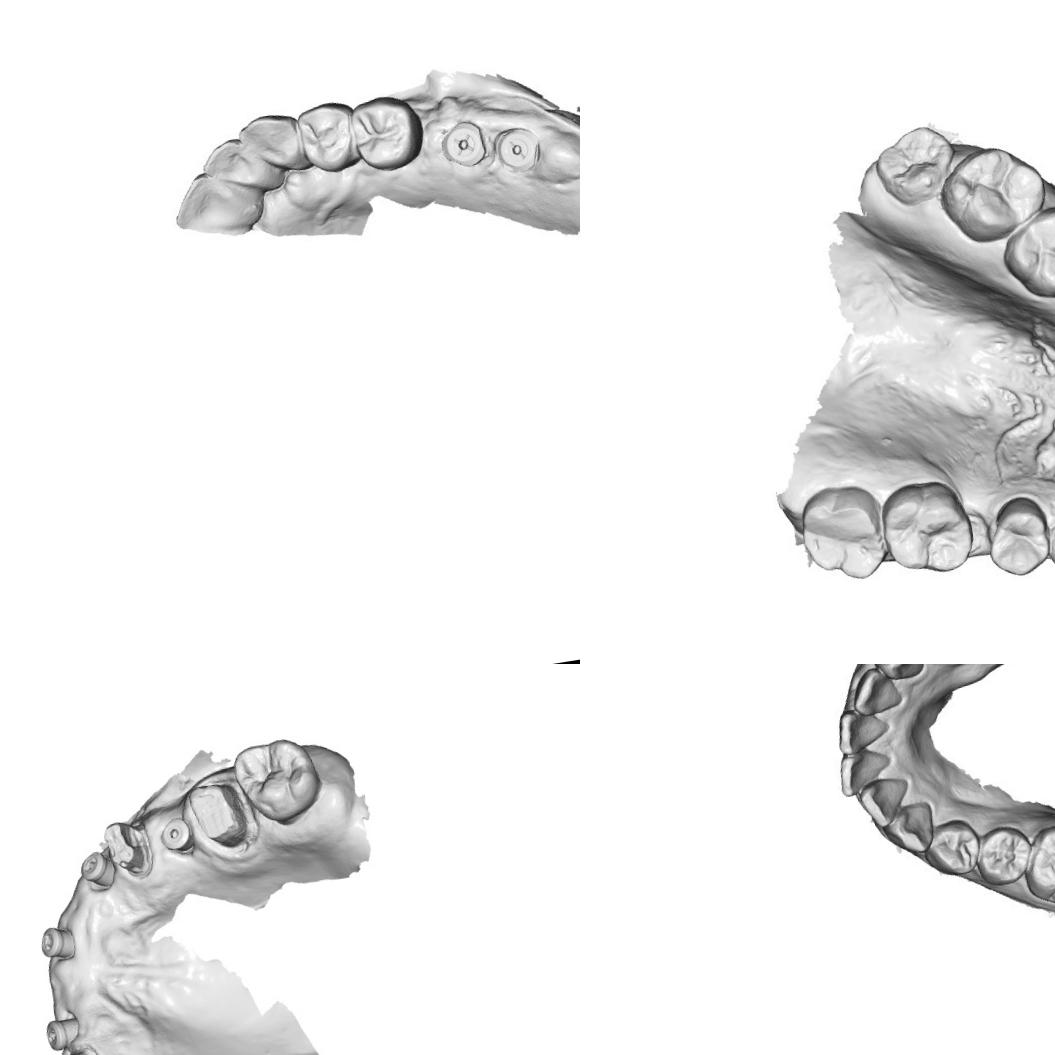canine: (238, 112, 308, 180), (884, 800, 940, 857), (868, 664, 929, 684)
crown: (186, 778, 254, 855), (100, 816, 154, 882)
implant: (156, 814, 195, 857)
implant_minus: (494, 121, 538, 171), (35, 918, 80, 964), (75, 846, 116, 893), (41, 1014, 83, 1052)
implant_plus: (440, 112, 490, 172)
incisor: (164, 168, 262, 240), (198, 138, 282, 200), (847, 664, 909, 721), (834, 746, 897, 800), (858, 776, 915, 834), (833, 704, 893, 757)
molar: (935, 140, 1054, 246), (879, 474, 976, 582), (796, 477, 890, 582), (230, 732, 328, 830), (871, 120, 956, 204), (345, 89, 422, 175), (1005, 204, 1055, 304), (297, 100, 360, 170), (1025, 817, 1055, 903)
premolar: (977, 492, 1055, 581), (920, 814, 989, 882), (972, 822, 1034, 888)
